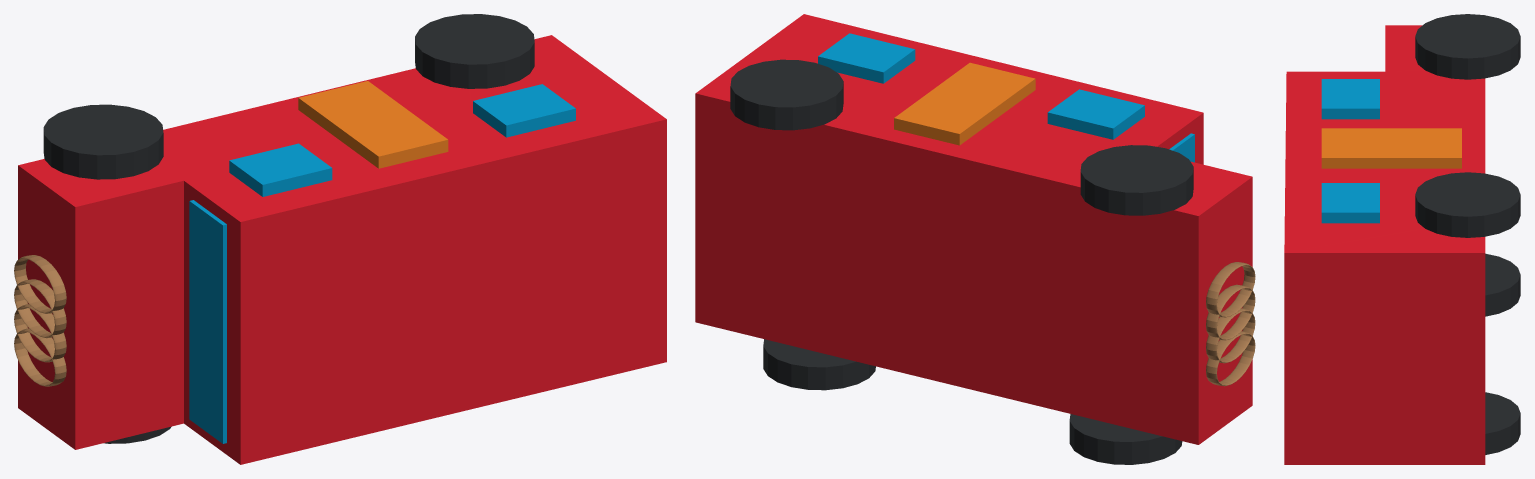
Rendered from tinker.obj.
The picture shows the model from 3 angles, left to right: view 1: azimuth 30°, elevation 25°; view 2: azimuth 150°, elevation 25°; view 3: azimuth 270°, elevation 25°; orthographic projection. The views are drawn at different scales.
Visible parts, largest first — view 1: group_0_15277357, group_0_2829873, group_0_40919, group_0_16089887, group_0_11107152; view 2: group_0_15277357, group_0_2829873, group_0_40919, group_0_16089887, group_0_11107152; view 3: group_0_15277357, group_0_2829873, group_0_16089887, group_0_40919.
Boxes of the visible parts, <box> form: group_0_15277357: <box>18,35,666,464</box>; group_0_2829873: <box>43,14,534,443</box>; group_0_40919: <box>189,84,575,443</box>; group_0_16089887: <box>298,81,448,168</box>; group_0_11107152: <box>14,255,66,386</box>; group_0_15277357: <box>695,14,1252,444</box>; group_0_2829873: <box>730,59,1193,464</box>; group_0_40919: <box>818,33,1194,162</box>; group_0_16089887: <box>894,62,1035,145</box>; group_0_11107152: <box>1206,262,1255,386</box>; group_0_15277357: <box>1284,25,1485,464</box>; group_0_2829873: <box>1415,14,1520,454</box>; group_0_16089887: <box>1321,128,1461,168</box>; group_0_40919: <box>1321,79,1379,223</box>.
Bounding box in the file's own units: 47 × 24 × 20.18.
